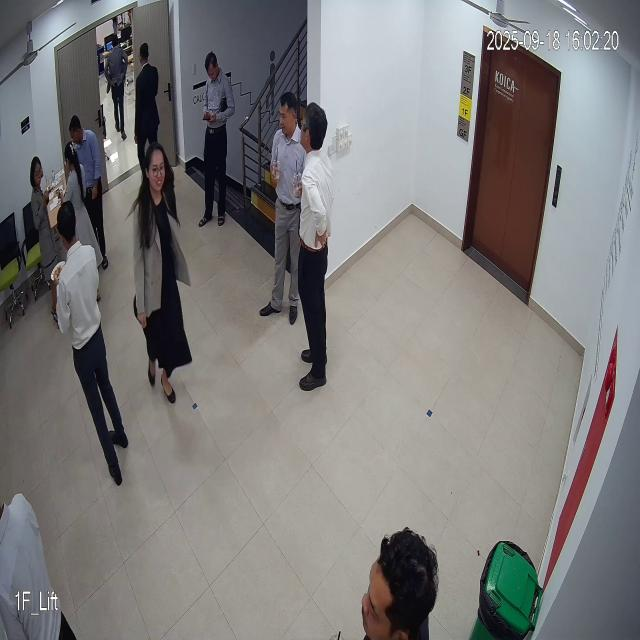face: (143, 142, 176, 202), (278, 90, 298, 138)
